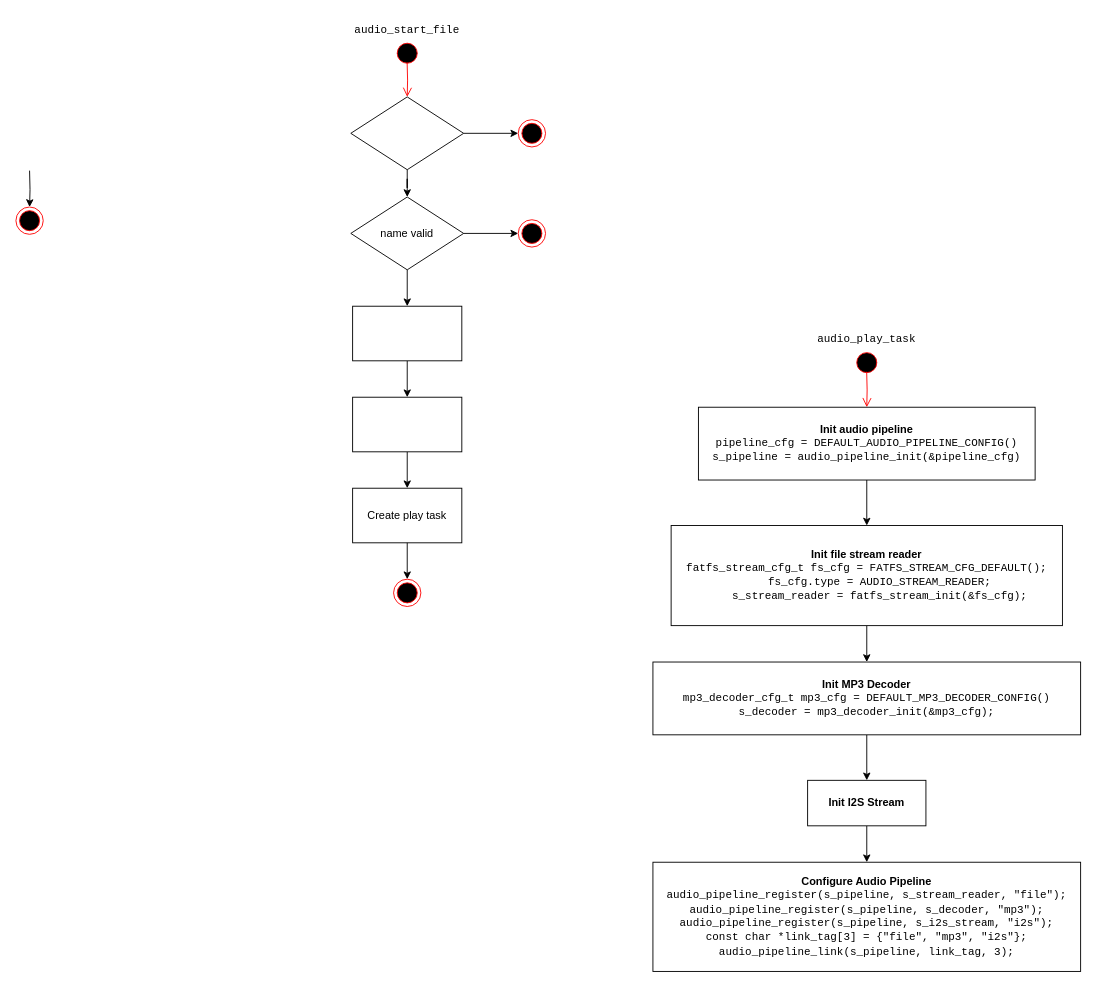
This 1097x987 diagram has some shape labels left out. Each missing label, with the centre of its shape:
audio initialised?: pixel 407 133
Init stop signal to false: pixel 407 424
Stop existing playback if avail: pixel 407 333
